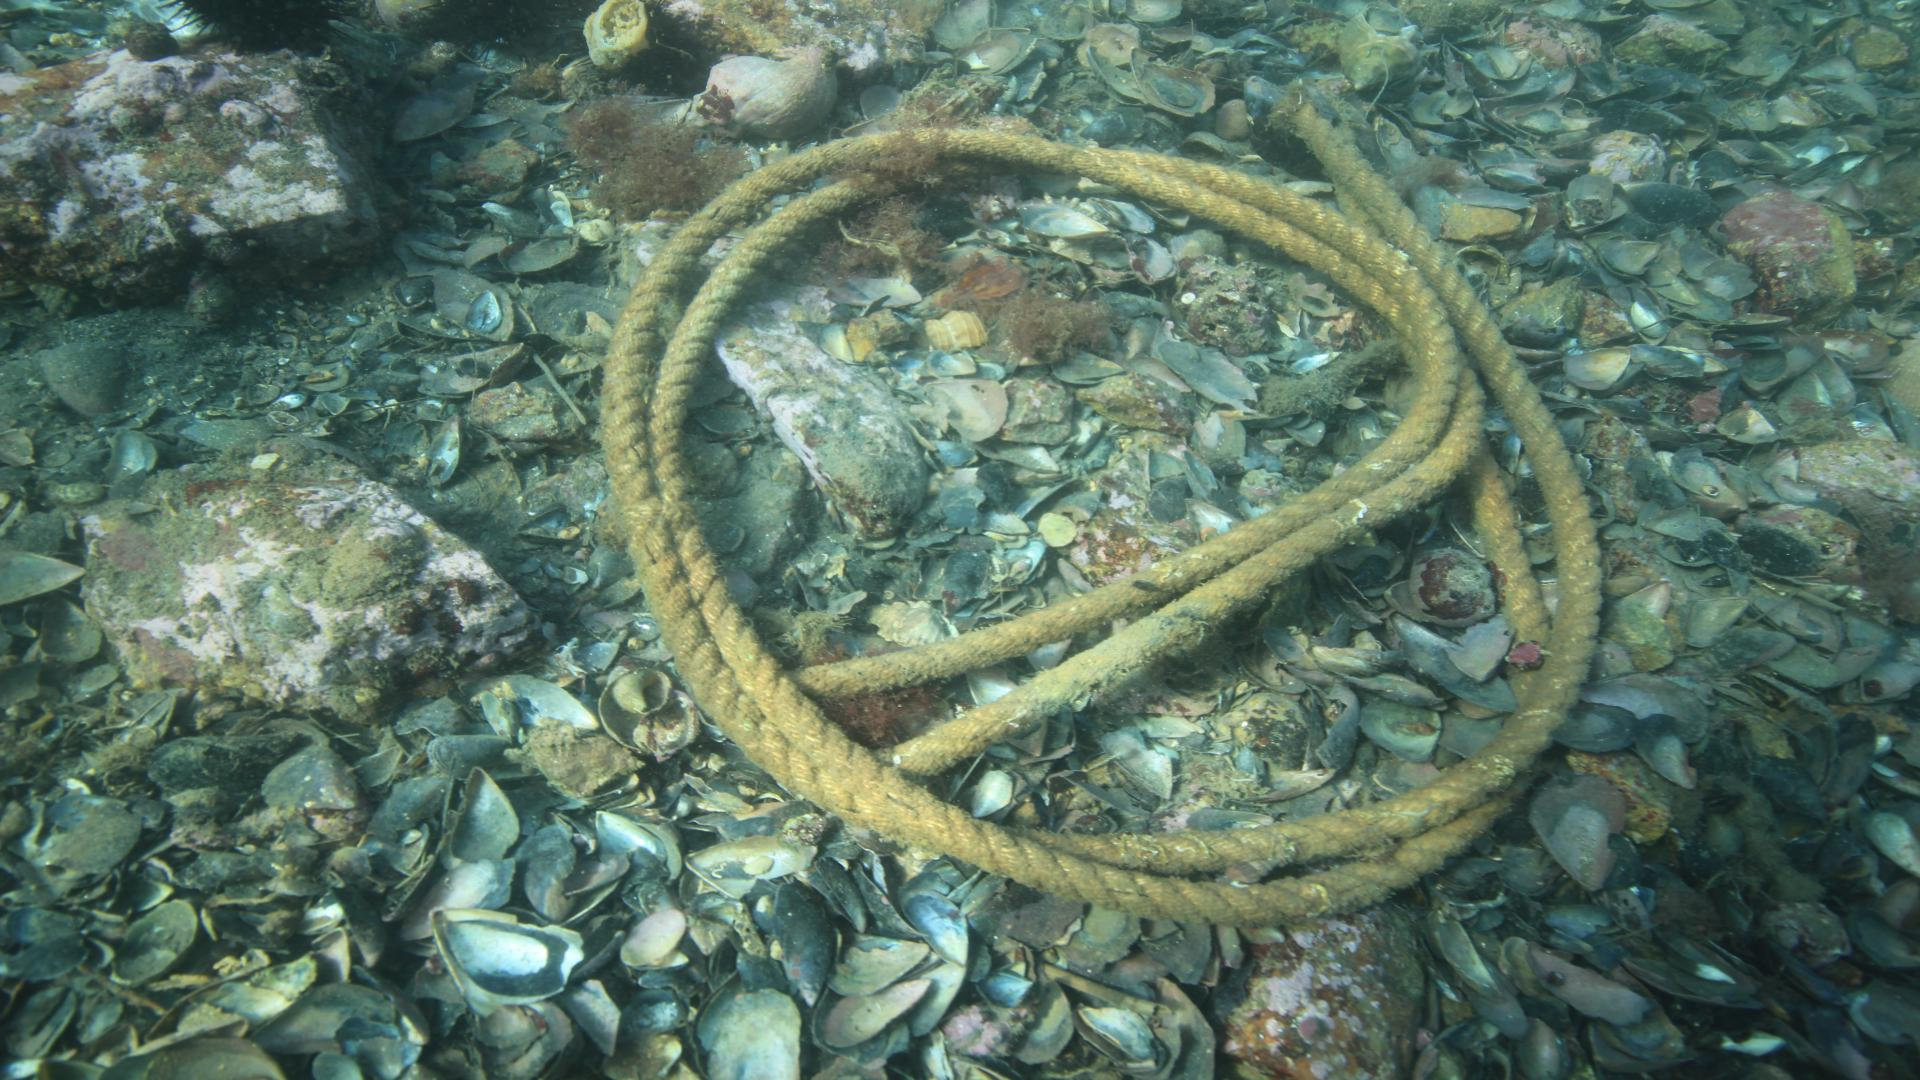bundle of ropes: (593, 95, 1613, 934)
